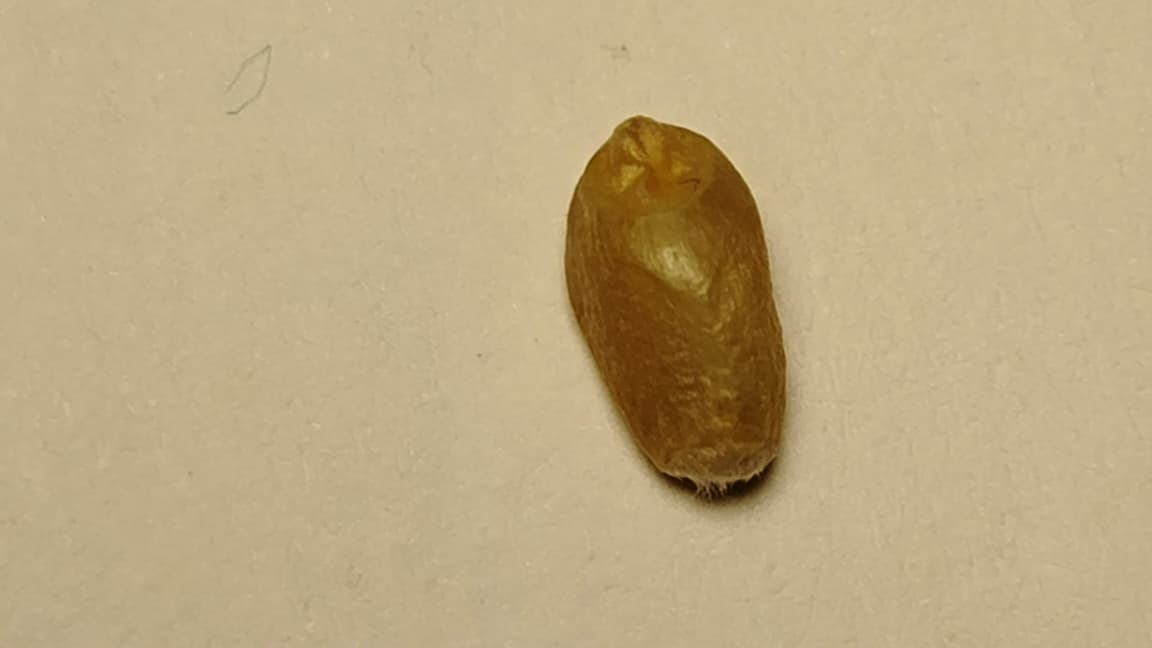healthy: (565, 116, 786, 491)
